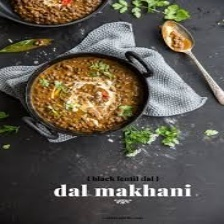dal: (29, 55, 144, 133)
